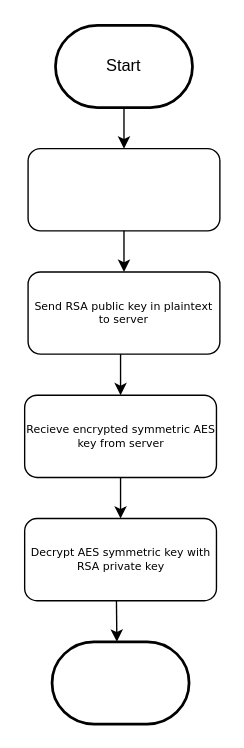
This 244x748 diagram has some shape labels left out. Each missing label, with the centre of its shape:
End: [120,682]
Generate RSA public/private key pair: [123,189]
